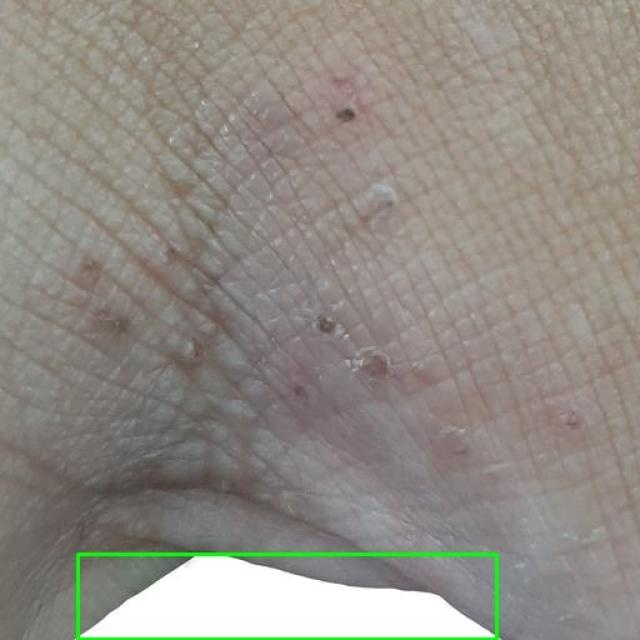Scabies: (78, 554, 496, 639)
